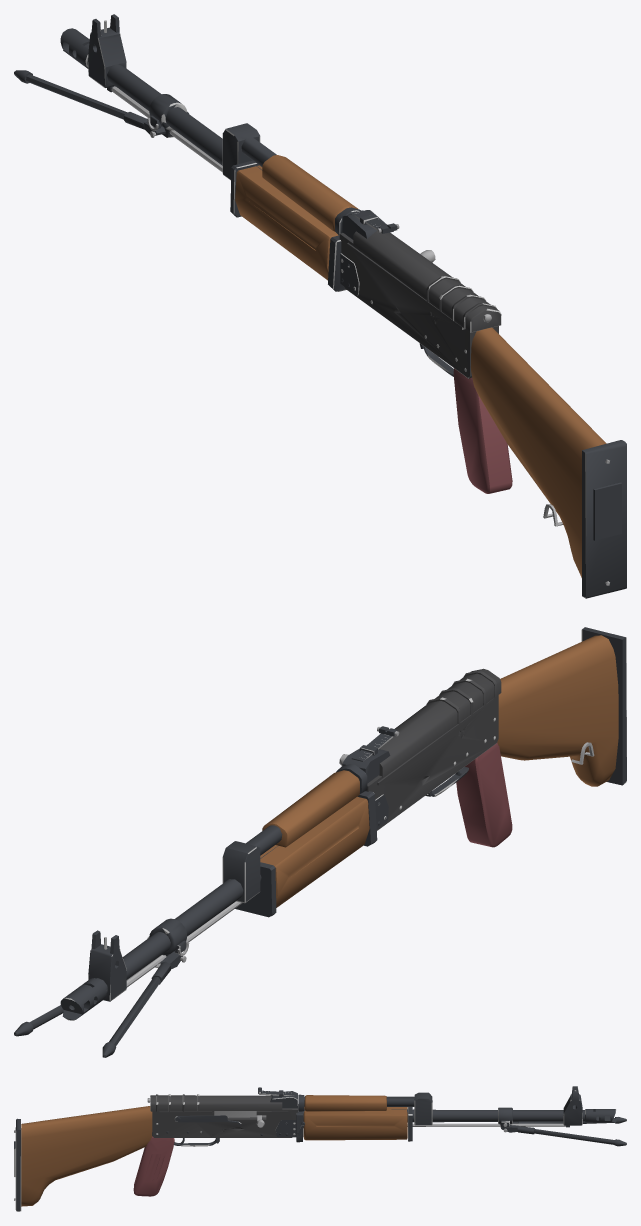
File: rpk74_lod1.glb
The picture shows the model from 3 angles, top to bottom: view 1: azimuth 30°, elevation 25°; view 2: azimuth 150°, elevation 25°; view 3: azimuth 270°, elevation 25°; orthographic projection. The views are drawn at different scales.
Parts seen in each view (by area): view 1: Wood, Blued, Stamped, Polymer, Worn, Steel; view 2: Wood, Blued, Stamped, Polymer, Steel, Worn; view 3: Wood, Blued, Stamped, Polymer, Steel, Worn.
Part boxes in pixels (left/top/right/bottom): Wood: left=235, top=155, right=606, bottom=577; Blued: left=14, top=14, right=626, bottom=598; Stamped: left=339, top=231, right=500, bottom=378; Polymer: left=453, top=368, right=512, bottom=493; Worn: left=85, top=20, right=586, bottom=598; Steel: left=111, top=86, right=609, bottom=585; Wood: left=260, top=635, right=618, bottom=907; Blued: left=14, top=627, right=626, bottom=1057; Stamped: left=365, top=668, right=501, bottom=830; Polymer: left=456, top=742, right=512, bottom=847; Steel: left=126, top=727, right=594, bottom=987; Worn: left=64, top=629, right=626, bottom=1020; Wood: left=21, top=1095, right=407, bottom=1206; Blued: left=14, top=1086, right=626, bottom=1211; Stamped: left=150, top=1094, right=298, bottom=1137; Polymer: left=133, top=1136, right=174, bottom=1196; Steel: left=14, top=1087, right=565, bottom=1200; Worn: left=14, top=1087, right=616, bottom=1211.
Bounding box in the file's own units: 0.1066 × 0.2278 × 1.08.
